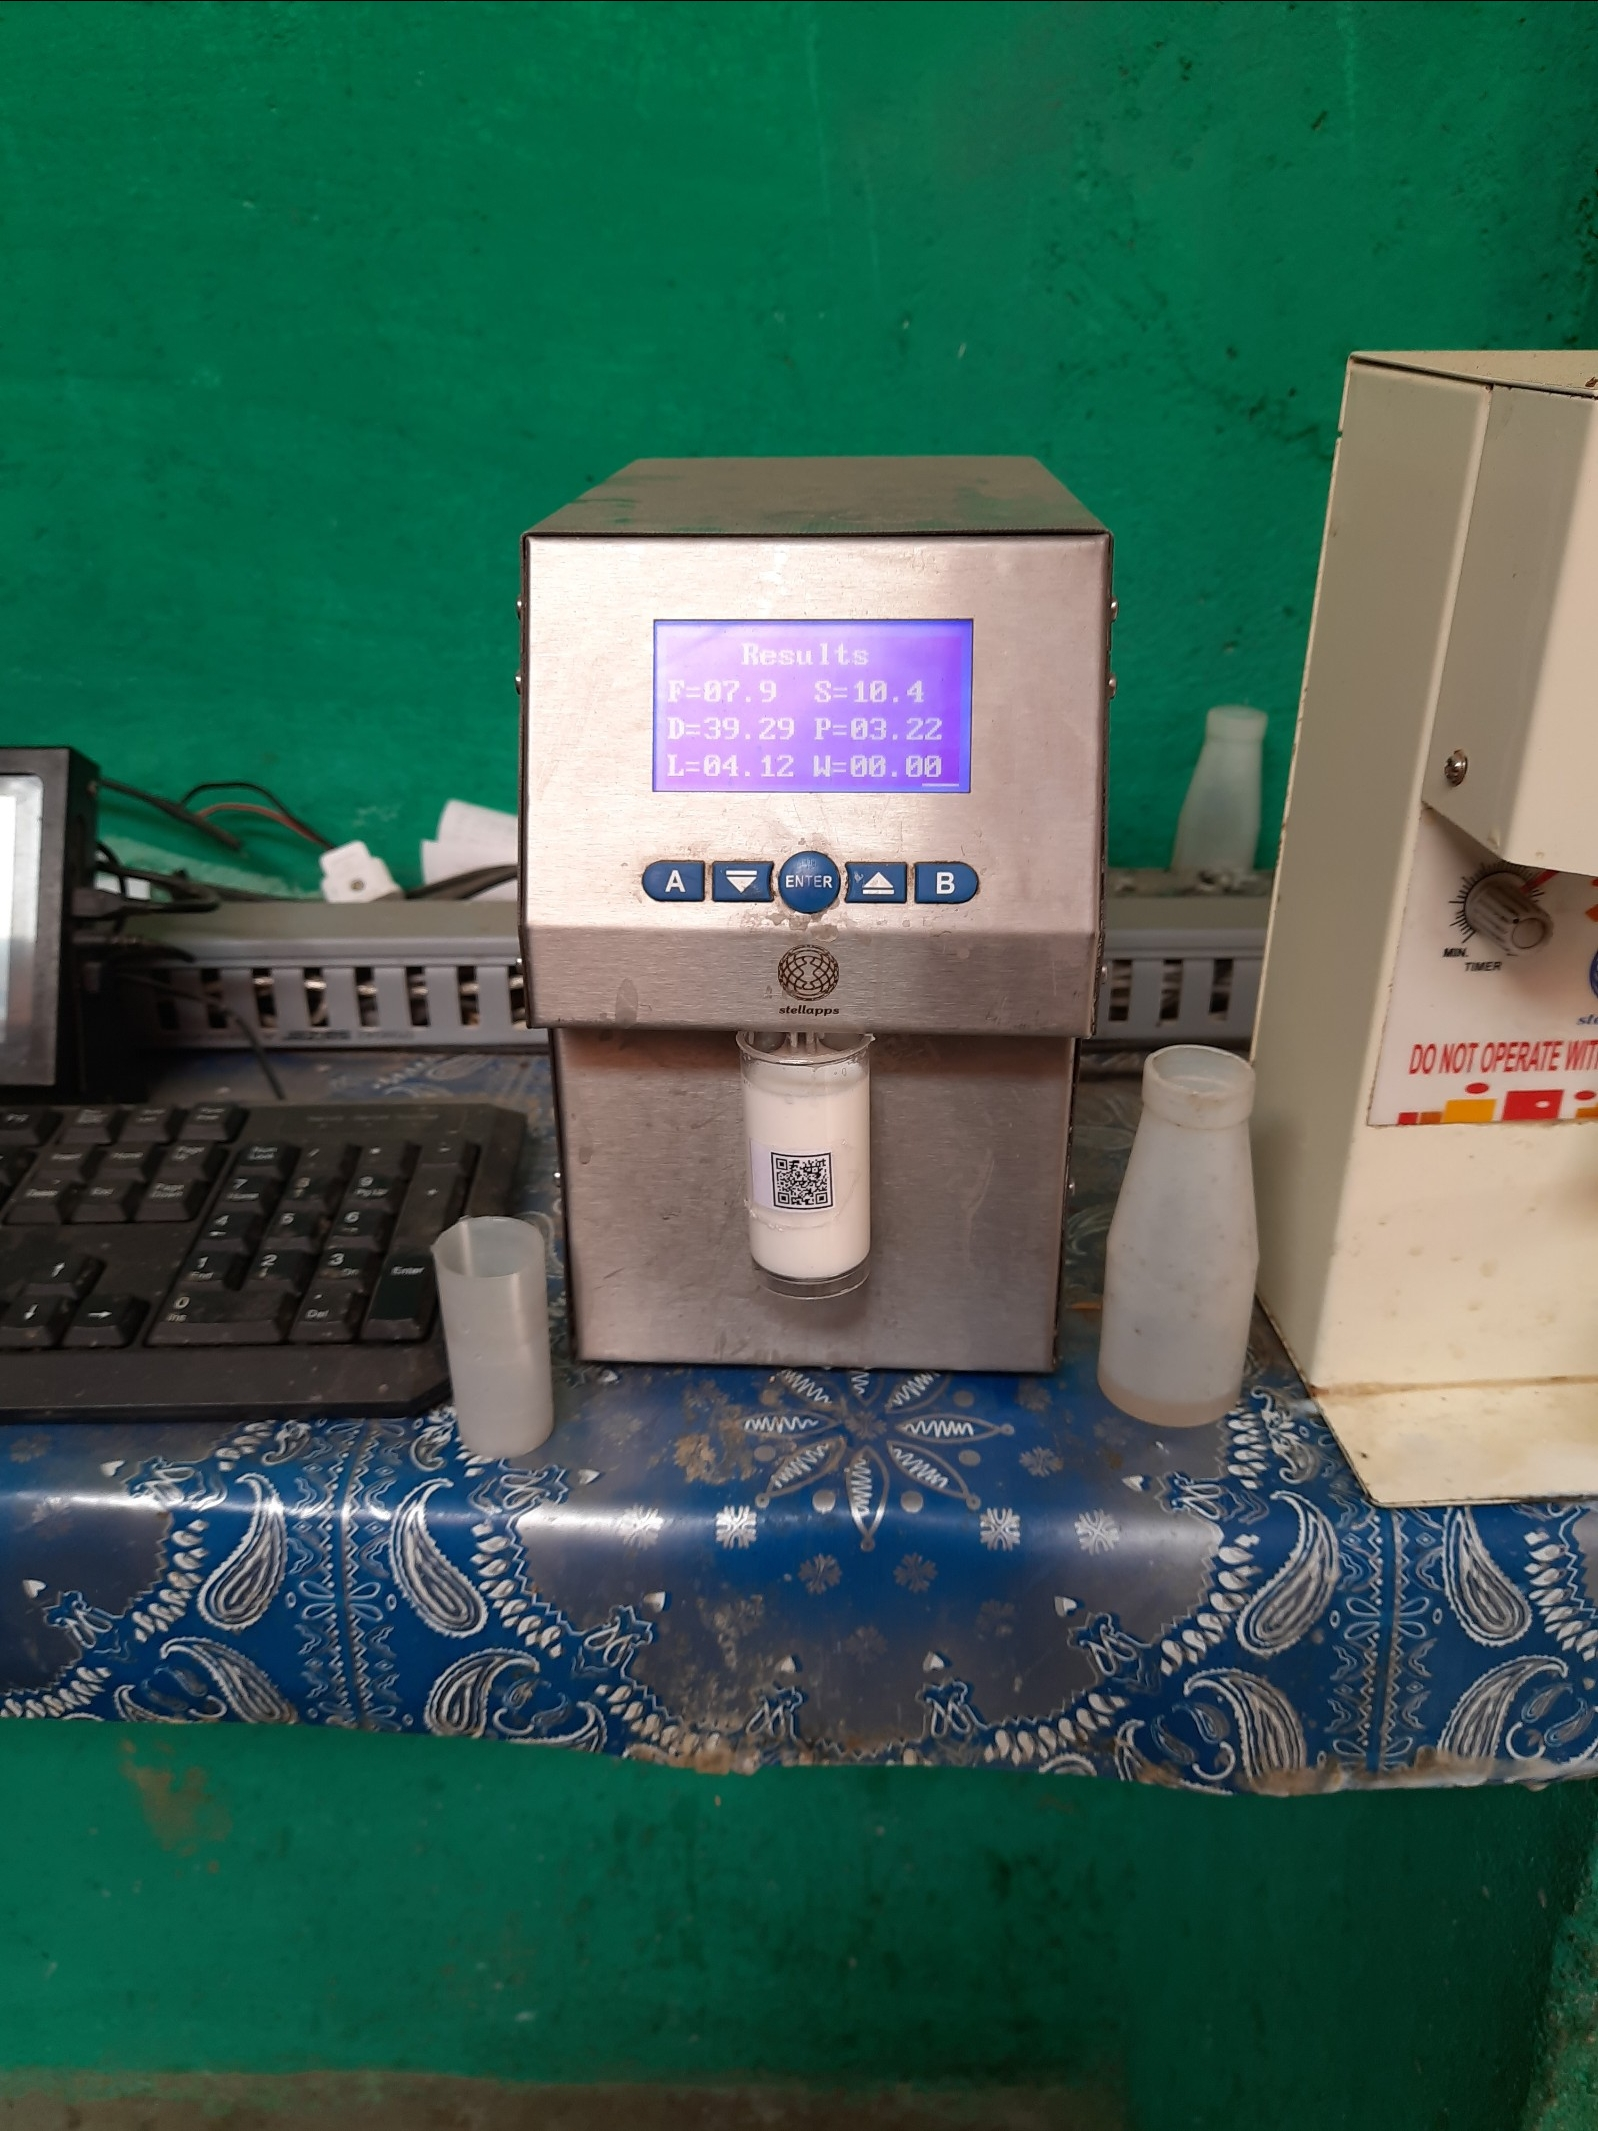lcd: (640, 611, 984, 804)
qr: (774, 1143, 851, 1217)
